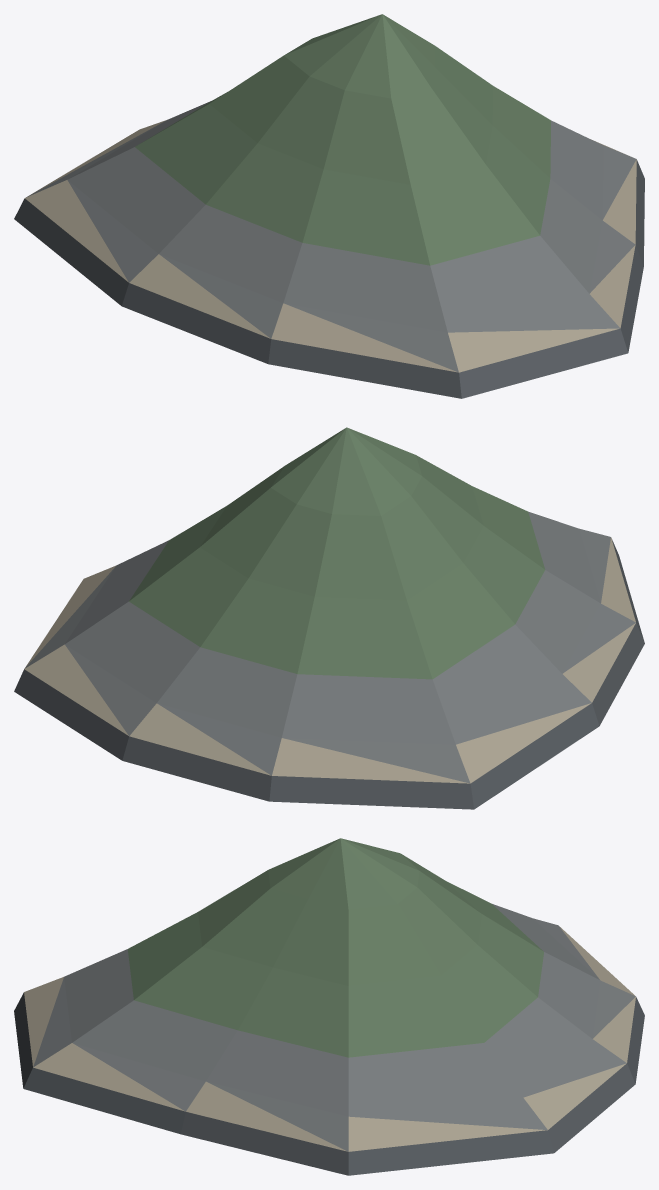
File: fogholms_lod1.glb
The picture shows the model from 3 angles, top to bottom: view 1: azimuth 30°, elevation 25°; view 2: azimuth 150°, elevation 25°; view 3: azimuth 270°, elevation 25°; orthographic projection. The views are drawn at different scales.
Size of the model in its own units: 1.69 by 0.7594 by 1.9.
